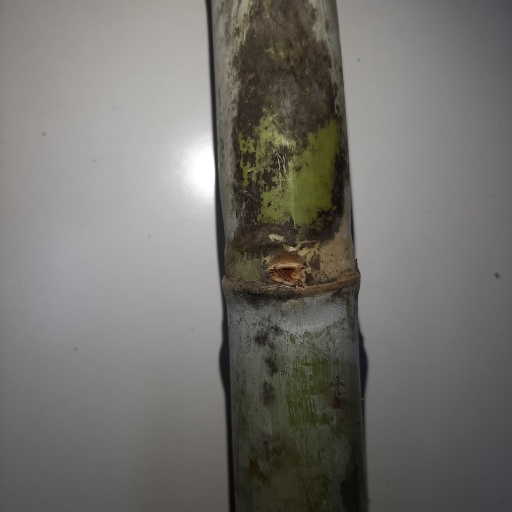Damage_Bud: (267, 252, 307, 287)
